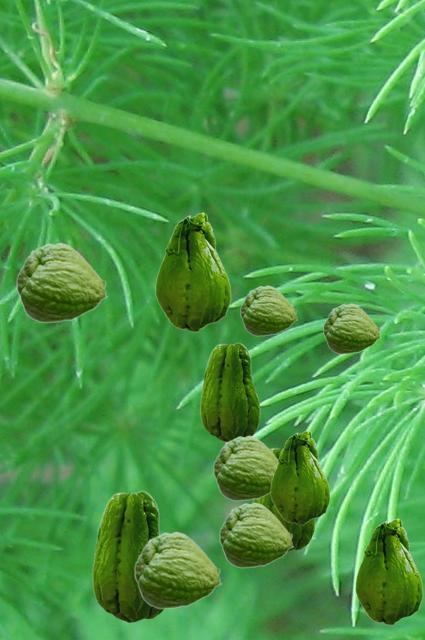sayote: (92, 490, 164, 622), (155, 212, 230, 331), (16, 242, 107, 322), (355, 518, 422, 624), (134, 531, 221, 608), (252, 447, 314, 552), (200, 342, 259, 442), (270, 430, 329, 524), (219, 502, 293, 567), (213, 435, 277, 500), (240, 285, 297, 335), (323, 303, 380, 353)
